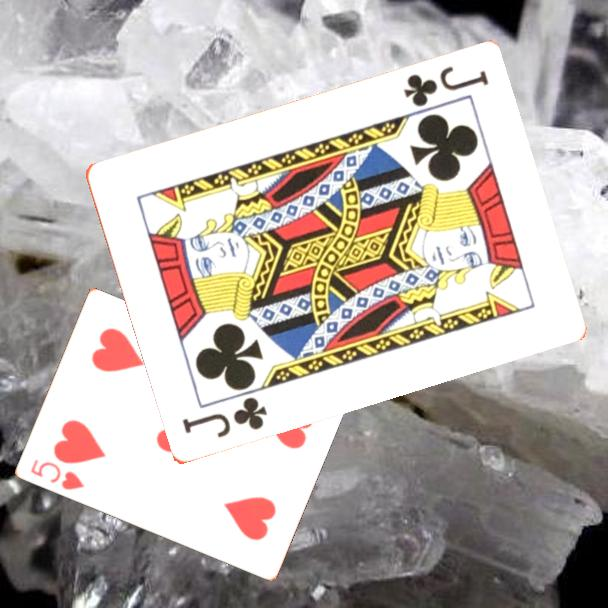c11: (399, 63, 492, 111), (178, 394, 270, 442)
h05: (27, 456, 87, 493)
